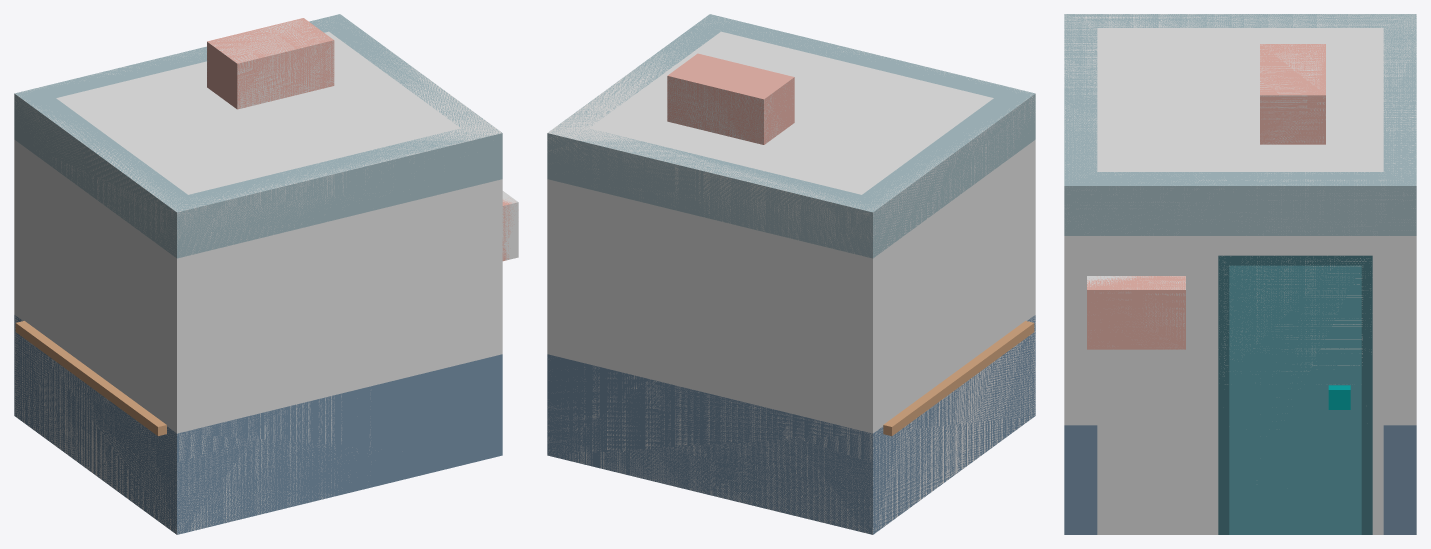
Rendered from Home04_B1_1_01.FBX.
3 renders of one model, left to right at view 1: azimuth 30°, elevation 25°; view 2: azimuth 150°, elevation 25°; view 3: azimuth 270°, elevation 25°, orthographic. The views are drawn at different scales.
Visible parts, largest first — view 1: Home04_B1_Damage_1_001, Home04_B1_Live_1_001; view 2: Home04_B1_Damage_1_001, Home04_B1_Live_1_001; view 3: Home04_B1_Live_1_001, Home04_B1_Damage_1_001.
Boxes of the visible parts, x1=… form: Home04_B1_Damage_1_001: x1=14, y1=15, x2=518, y2=534; Home04_B1_Live_1_001: x1=14, y1=14, x2=516, y2=534; Home04_B1_Damage_1_001: x1=547, y1=14, x2=1035, y2=534; Home04_B1_Live_1_001: x1=547, y1=14, x2=1035, y2=534; Home04_B1_Live_1_001: x1=1064, y1=14, x2=1416, y2=534; Home04_B1_Damage_1_001: x1=1064, y1=14, x2=1416, y2=534.
Size of the model in its own units: 3.12 by 3.05 by 2.44.
